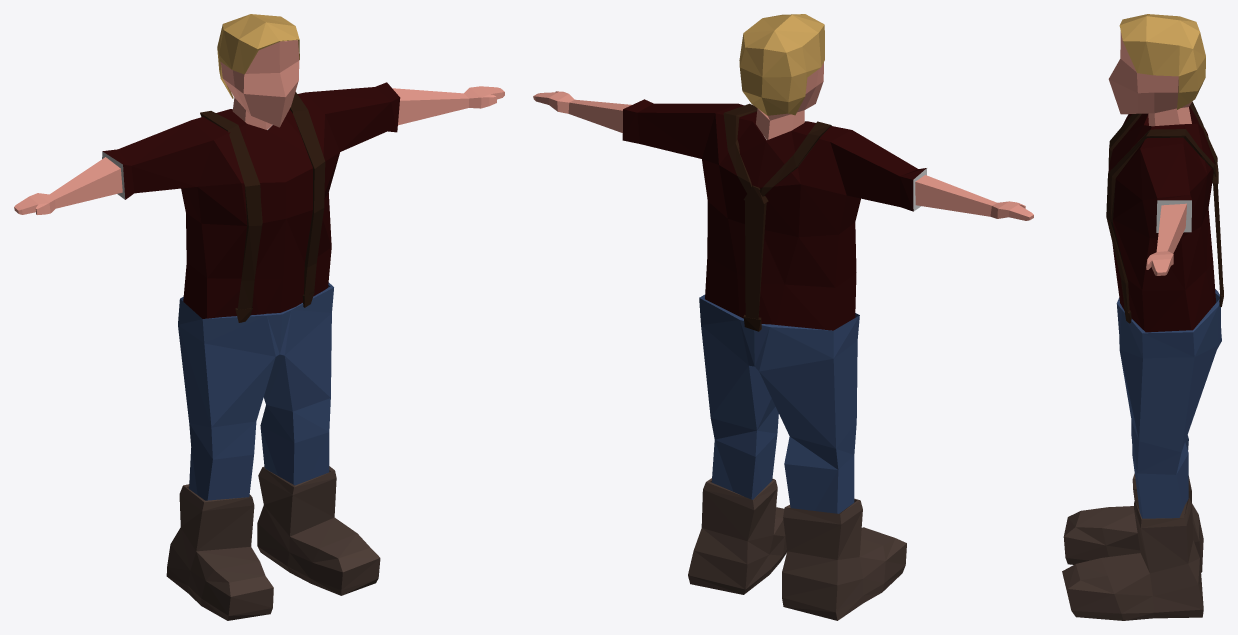
Rendered from HunterModel1.fbx.
3 views of the same model, side by side, from view 1: azimuth 30°, elevation 25°; view 2: azimuth 150°, elevation 25°; view 3: azimuth 270°, elevation 25° (orthographic). The views are drawn at different scales.
Parts seen in each view (by area): view 1: Plaid Shirt, Jeans, Boots, 1 Body, Suspenders, Hair; view 2: Plaid Shirt, Jeans, Boots, Hair, 1 Body, Suspenders; view 3: Plaid Shirt, Boots, Jeans, 1 Body, Hair, Suspenders.
Boxes of the visible parts, x1=… form: Plaid Shirt: x1=102, y1=82, x2=400, y2=318; Jeans: x1=178, y1=282, x2=333, y2=500; Boots: x1=166, y1=466, x2=380, y2=620; 1 Body: x1=14, y1=40, x2=504, y2=214; Suspenders: x1=200, y1=91, x2=325, y2=322; Hair: x1=217, y1=14, x2=299, y2=98; Plaid Shirt: x1=622, y1=99, x2=927, y2=330; Jeans: x1=699, y1=294, x2=859, y2=513; Boots: x1=688, y1=478, x2=906, y2=620; Hair: x1=739, y1=14, x2=824, y2=115; 1 Body: x1=533, y1=62, x2=1033, y2=220; Suspenders: x1=723, y1=103, x2=831, y2=331; Plaid Shirt: x1=1108, y1=106, x2=1215, y2=332; Boots: x1=1062, y1=474, x2=1203, y2=620; Jeans: x1=1116, y1=289, x2=1221, y2=518; 1 Body: x1=1108, y1=31, x2=1192, y2=275; Hair: x1=1119, y1=14, x2=1205, y2=109; Suspenders: x1=1106, y1=102, x2=1223, y2=323.
Bounding box in the file's own units: 1477 × 1614 × 418.
